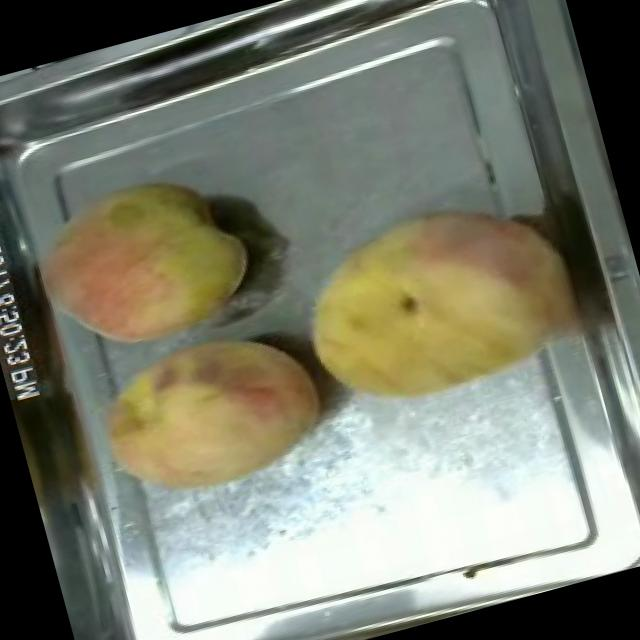Fruit: (276, 170, 601, 434), (14, 148, 274, 379), (70, 302, 342, 522)
